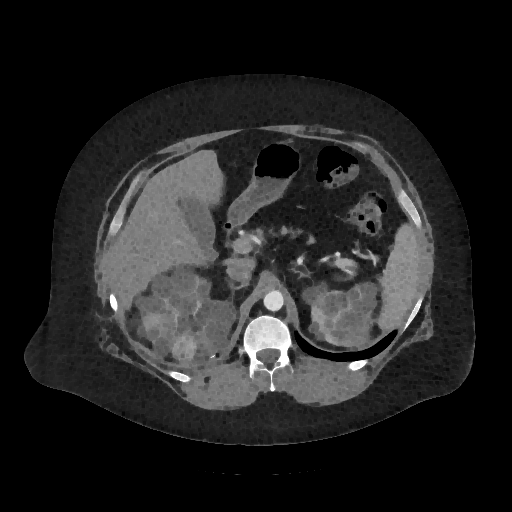Lesion: (170, 335, 198, 364)
